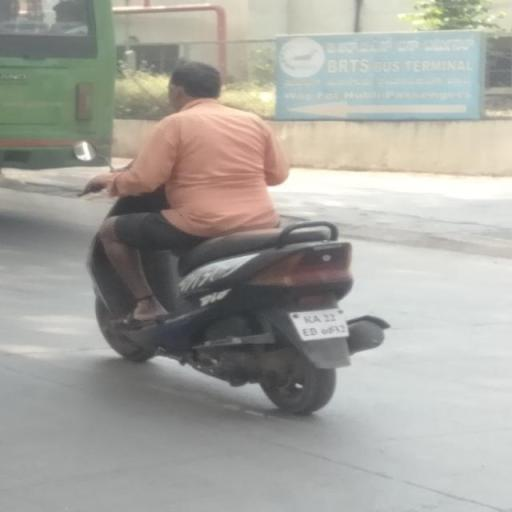bike: (68, 58, 392, 422)
numberplate: (285, 300, 353, 343)
withouthelmet: (170, 65, 223, 105)
